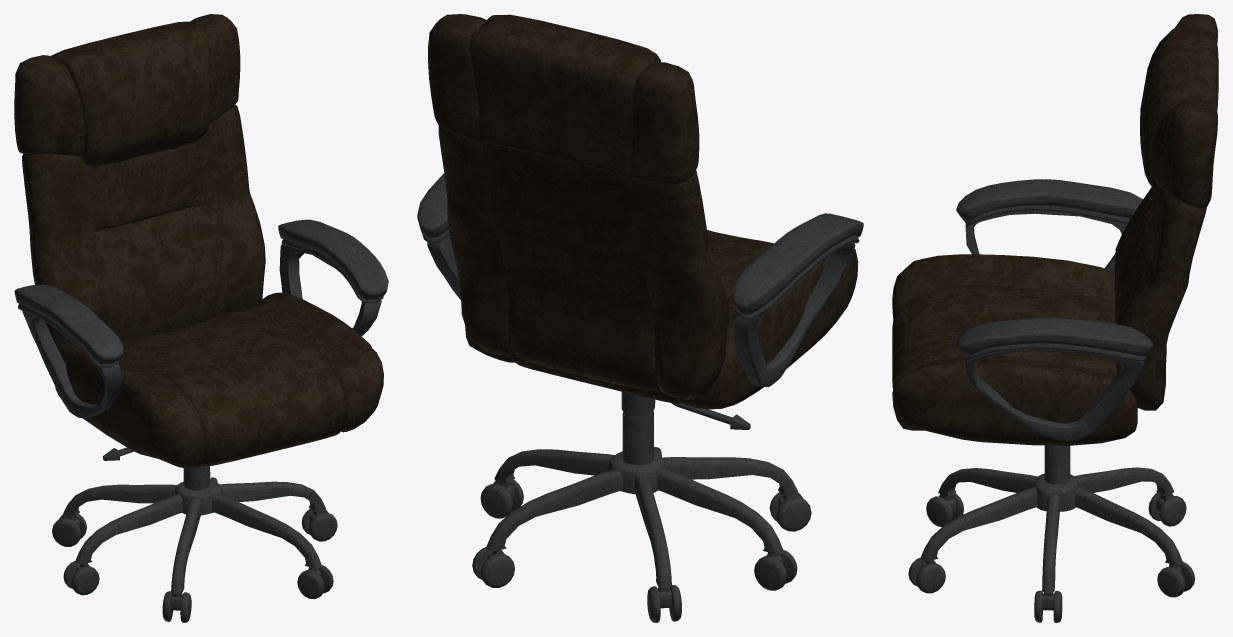
The model's file is chair-exec2-2k.glb.
The picture shows the model from 3 angles, left to right: view 1: azimuth 30°, elevation 25°; view 2: azimuth 150°, elevation 25°; view 3: azimuth 270°, elevation 25°; orthographic projection. The views are drawn at different scales.
Visible parts, largest first — view 1: SM_Sandalye_2.001_1; view 2: SM_Sandalye_2.001_1; view 3: SM_Sandalye_2.001_1.
Part boxes in pixels (bbox=[...]): SM_Sandalye_2.001_1: bbox=[14, 14, 388, 622]; SM_Sandalye_2.001_1: bbox=[417, 14, 863, 622]; SM_Sandalye_2.001_1: bbox=[892, 14, 1218, 622].
Size of the model in its own units: 0.7911 by 1.2 by 0.7079.
Materials: 1 (1 with a texture image).
